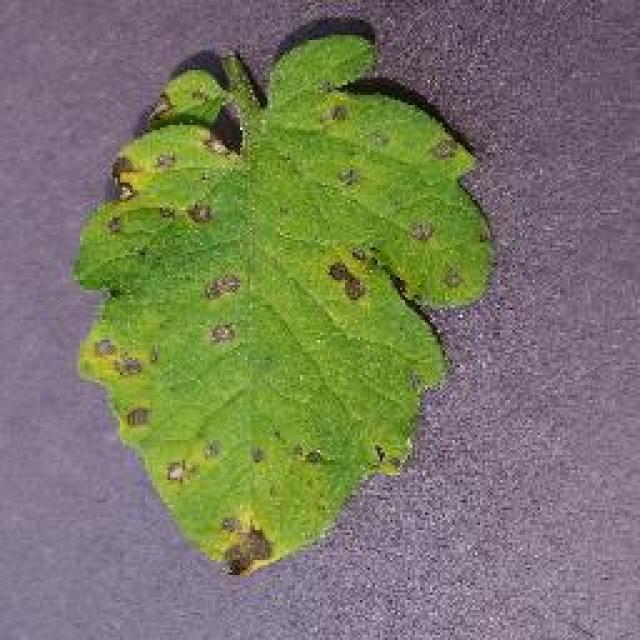Tomato___Septoria_leaf_spot: (75, 32, 488, 575)
